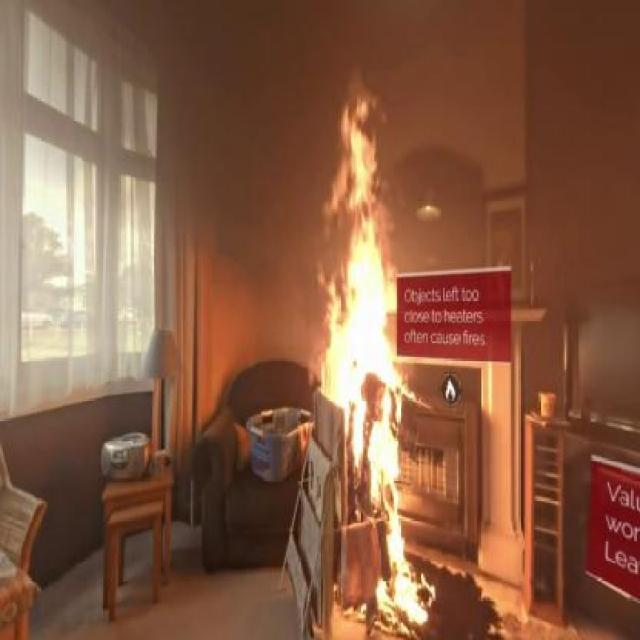fire: (324, 192, 426, 634)
smoke: (202, 51, 320, 286)
